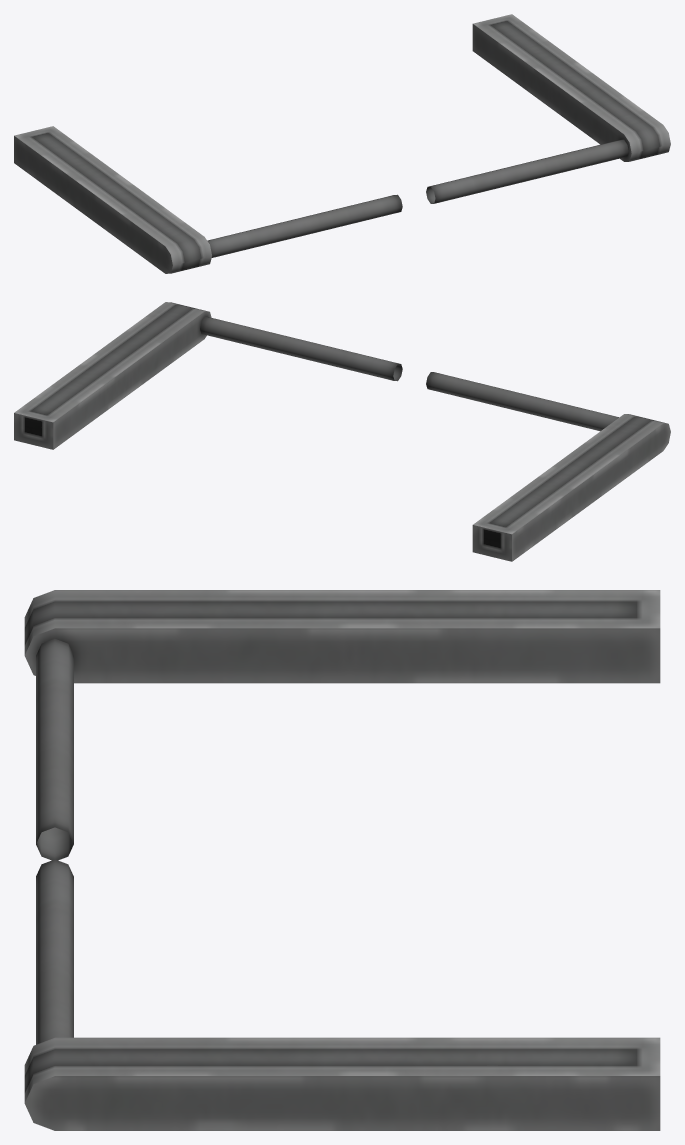
Rendered from Ara_Solar_1_Arm.obj.
3 views of the same model, one above another, from view 1: azimuth 30°, elevation 25°; view 2: azimuth 150°, elevation 25°; view 3: azimuth 270°, elevation 25° (orthographic). The views are drawn at different scales.
Parts seen in each view (by area): view 1: Ara_Solar_1_Arm; view 2: Ara_Solar_1_Arm; view 3: Ara_Solar_1_Arm.
Part boxes in pixels (x1,y1,x2,y2): Ara_Solar_1_Arm: [14, 14, 670, 273]; Ara_Solar_1_Arm: [14, 302, 670, 561]; Ara_Solar_1_Arm: [24, 590, 660, 1130].
Bounding box in the file's own units: 0.95 × 0.05 × 0.525.
